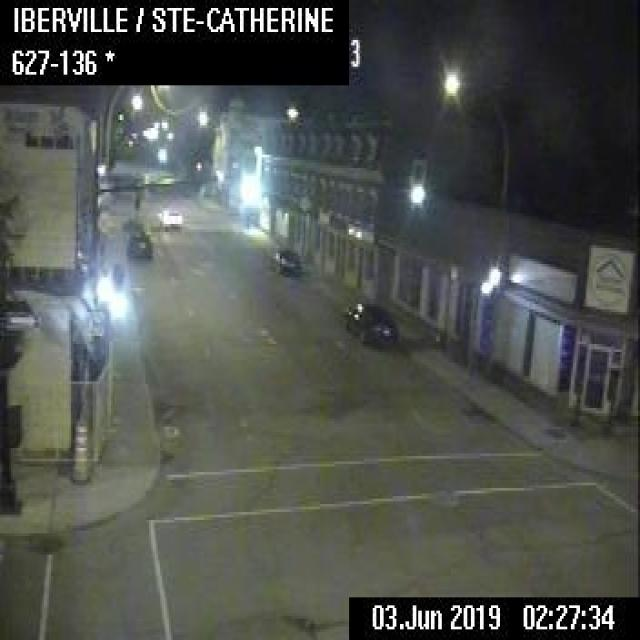construction: (68, 411, 89, 483)
vehicle: (341, 296, 391, 342), (267, 243, 300, 272), (124, 224, 151, 259), (158, 205, 182, 227)
